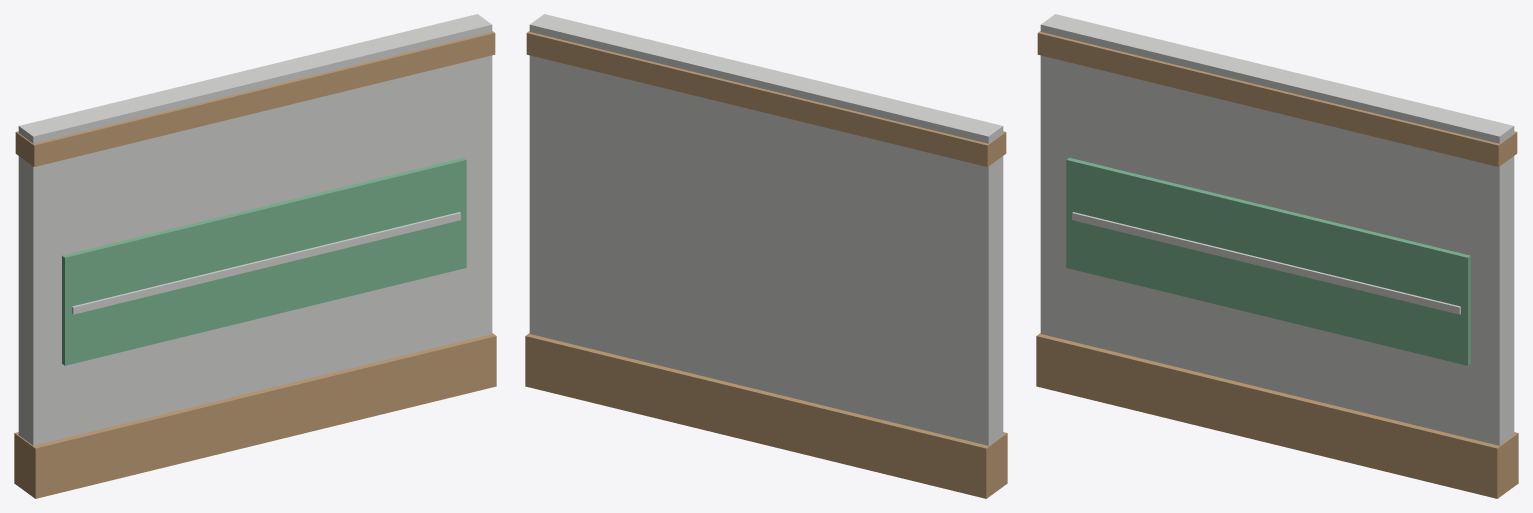
The model's file is tennis-club-and-courts-clubhouse-wall-bay-a221d7e8__33635.glb.
3 renders of one model, left to right at view 1: azimuth 30°, elevation 25°; view 2: azimuth 150°, elevation 25°; view 3: azimuth 330°, elevation 25°, orthographic.
Parts seen in each view (by area): view 1: clubhouse-wall-bay; view 2: clubhouse-wall-bay; view 3: clubhouse-wall-bay.
Boxes of the visible parts, left/top/right/bottom form: clubhouse-wall-bay: left=14, top=14, right=496, bottom=498; clubhouse-wall-bay: left=525, top=14, right=1007, bottom=498; clubhouse-wall-bay: left=1036, top=14, right=1518, bottom=498.
Size of the model in its own units: 4.02 by 3 by 0.3351.
